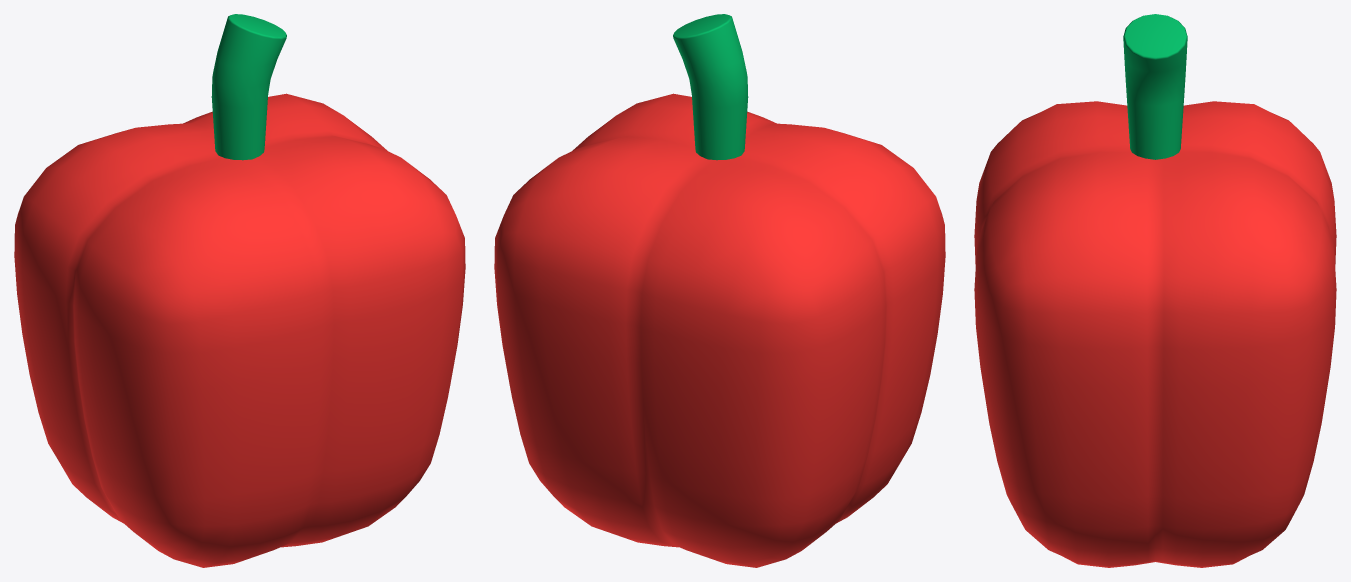
Rendered from Farm_19_Pepper_2.glb.
The picture shows the model from 3 angles, left to right: view 1: azimuth 30°, elevation 25°; view 2: azimuth 150°, elevation 25°; view 3: azimuth 270°, elevation 25°; orthographic projection.
Parts seen in each view (by area): view 1: Farm_19_Pepper_2; view 2: Farm_19_Pepper_2; view 3: Farm_19_Pepper_2.
Part boxes in pixels (bbox=[...]): Farm_19_Pepper_2: bbox=[14, 14, 465, 567]; Farm_19_Pepper_2: bbox=[494, 14, 945, 567]; Farm_19_Pepper_2: bbox=[974, 14, 1336, 567].
Bounding box in the file's own units: 0.3124 × 0.4357 × 0.2757.
Materials: 1 (1 with a texture image).
